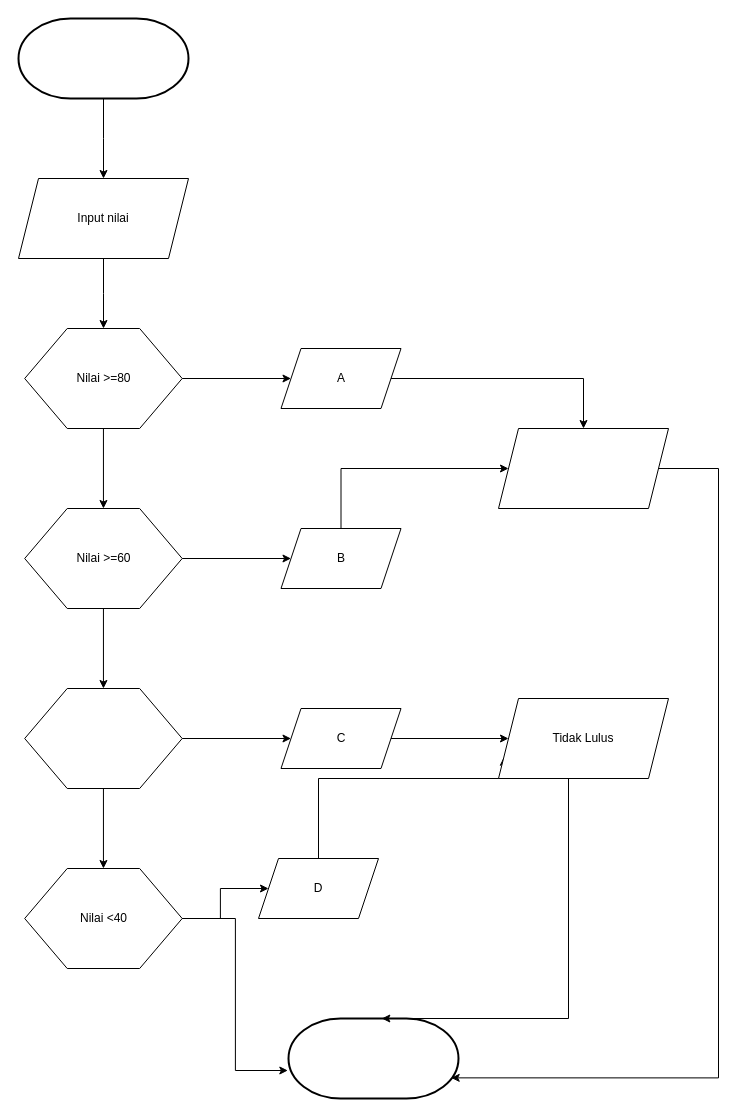
This 744x1116 diagram has some shape labels left out. The centre of each missing label's shape, as x and y in pixels:
"End" goes at point (373, 1058).
"Lulus" goes at point (583, 468).
"Nilai >=40" goes at point (103, 738).
"Start" goes at point (103, 58).
